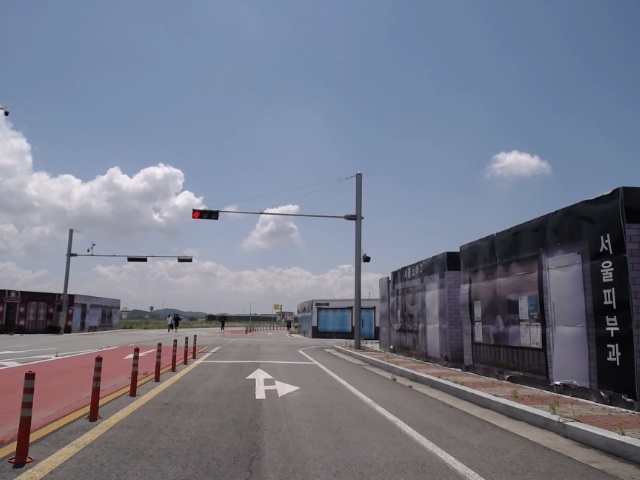red_3: (191, 209, 219, 221)
